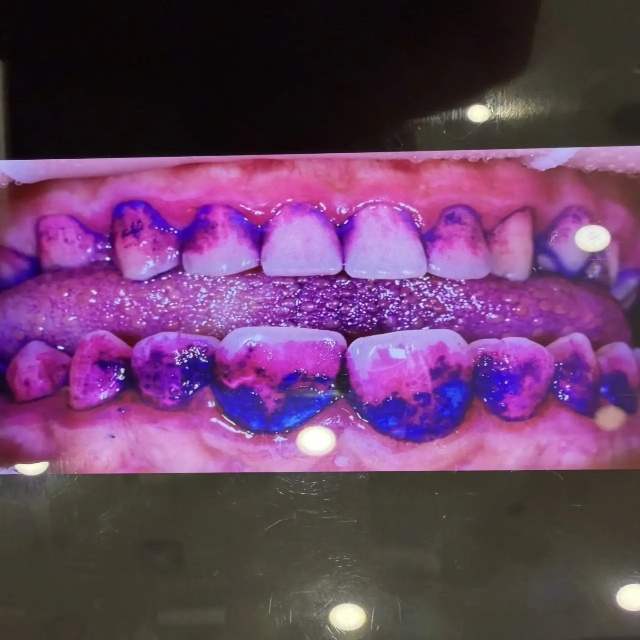clean_tooth: (327, 601, 369, 636), (465, 103, 524, 122), (617, 584, 639, 611)
plaque: (0, 147, 639, 448)
